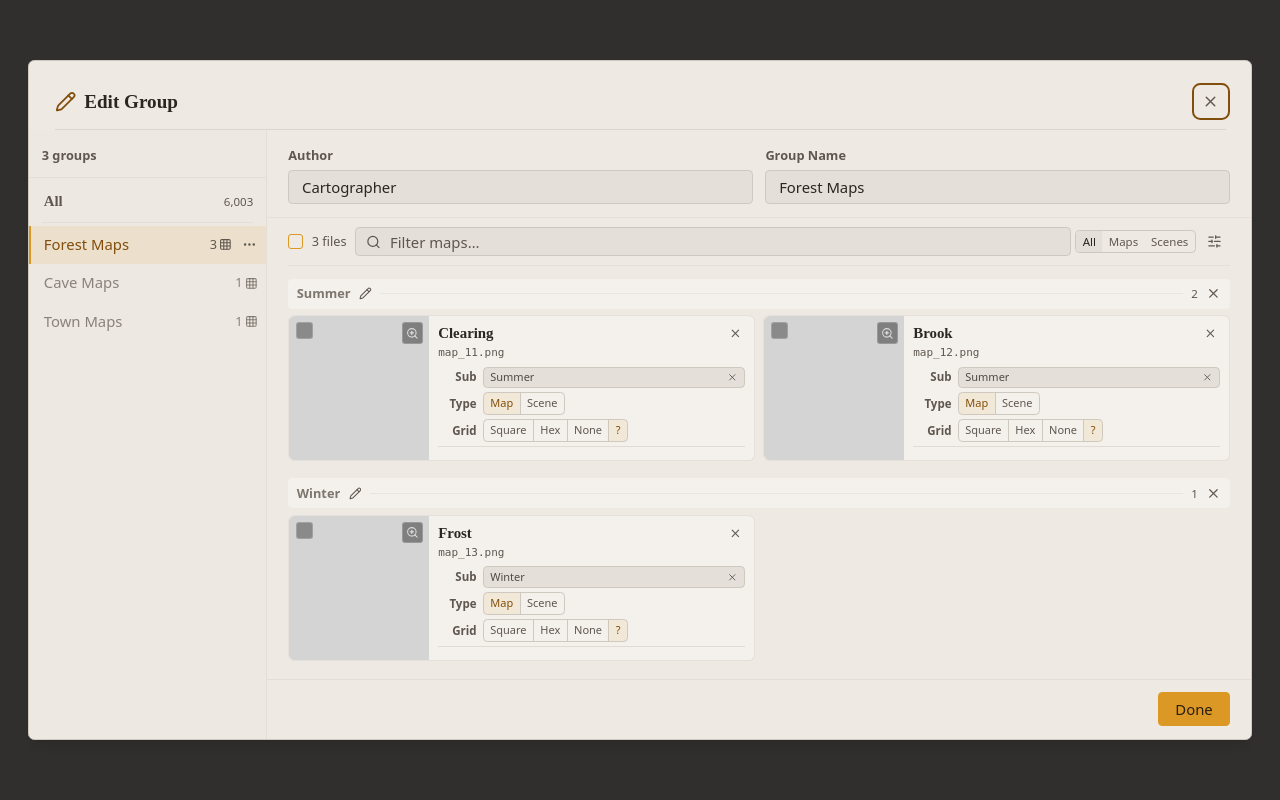
Test: EditGroupDialog › large import review › loads only the group it opens on, and others when they are opened
The image size is (1280, 800).
Expected: the field showing "Forest Maps" below "Group Name" is shown, [765,170,1230,204]
Click the button "Town Maps 1".
click(148, 321)  # box [29,302,266,340]
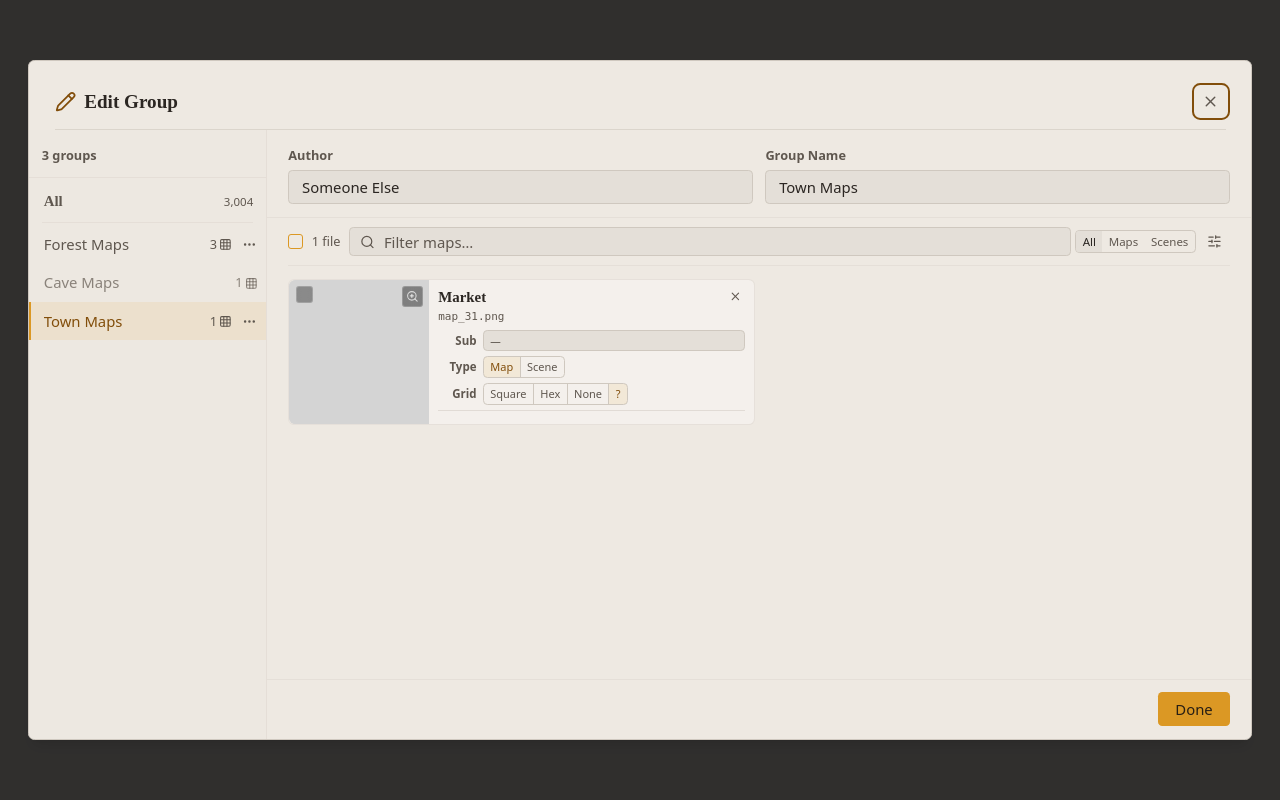
Expected: the field showing "Town Maps" below "Group Name" is shown, [765,170,1230,204]
